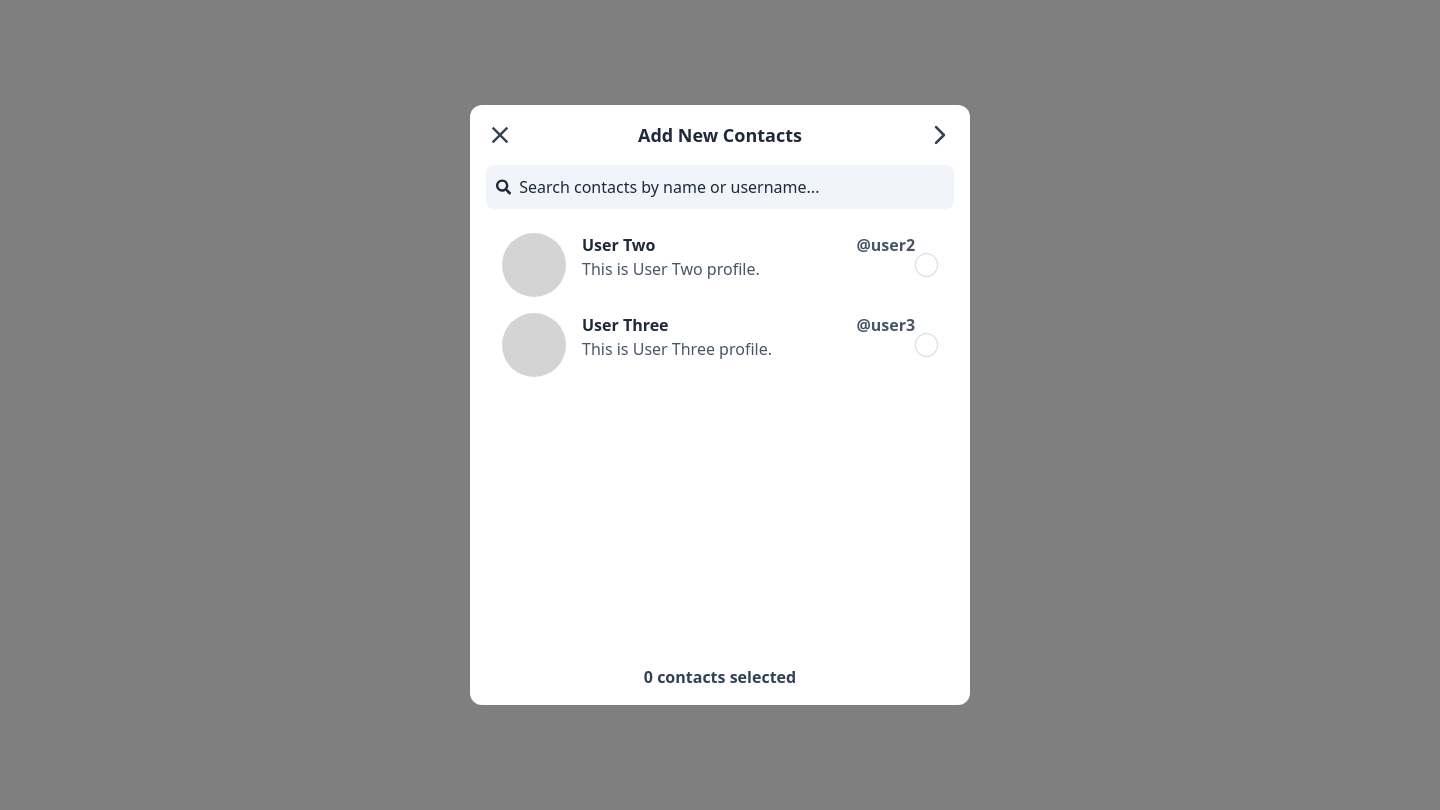
Test case: <AddNewContactsModal /> › displays error when no contacts selected
Expected: the element with test id "add-new-contacts-modal" is shown, [470, 105, 970, 705]
Click the button with test id "add-new-contacts-button".
click(940, 135)  # box [926, 121, 954, 149]
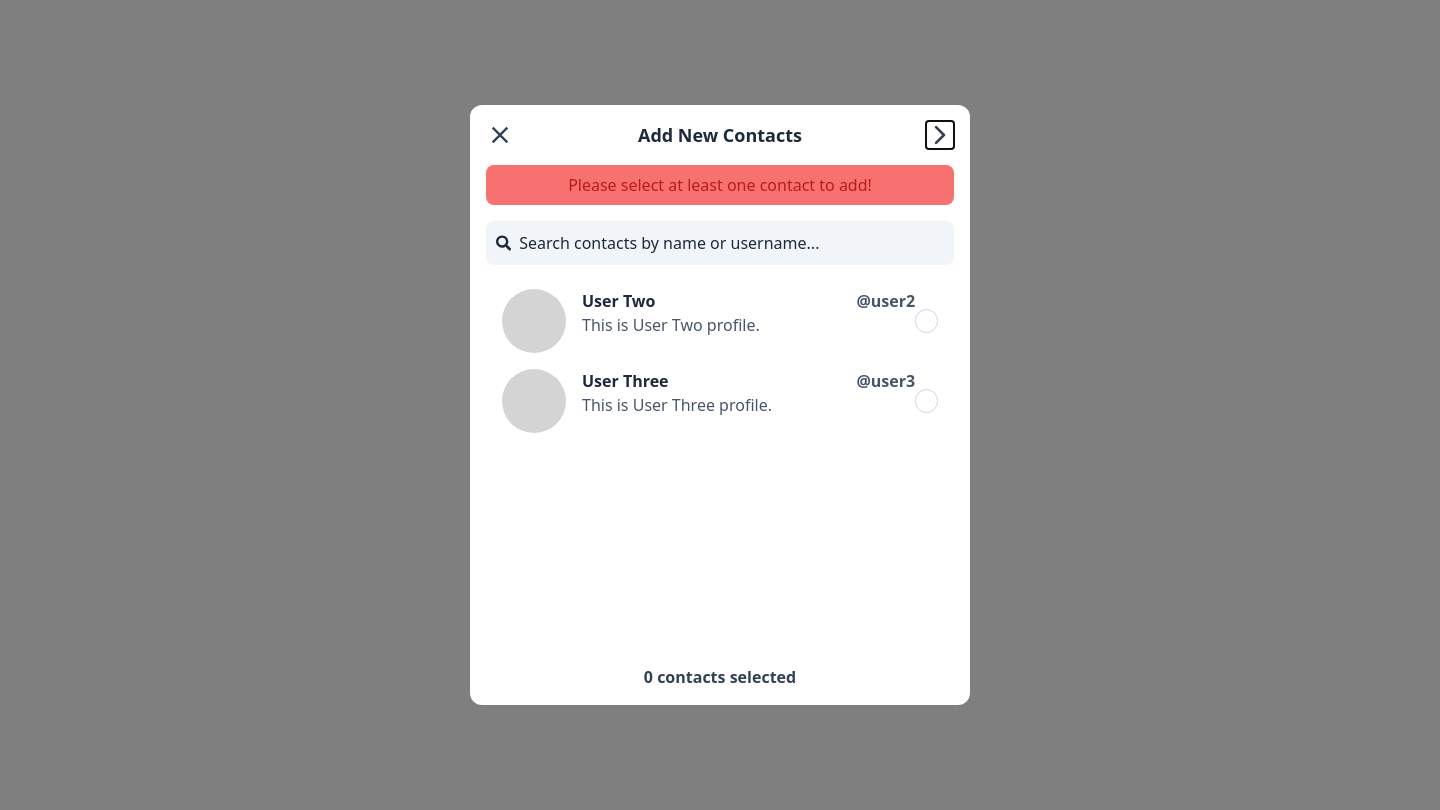
Result: the text "Please select at least one contact to add!" is shown at [486, 165, 954, 205]
